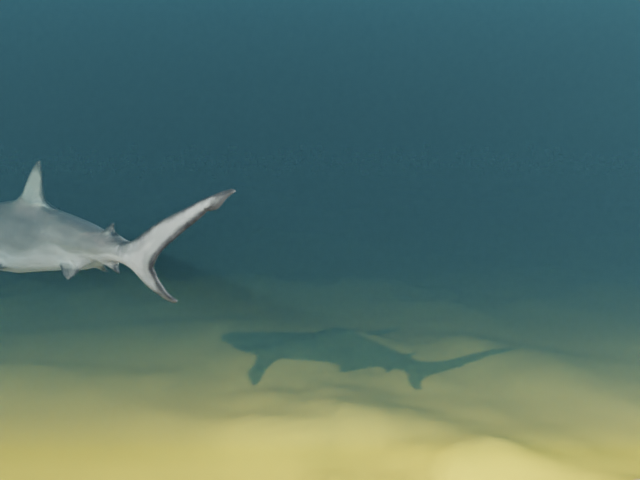Carribean Shark.001: (0, 160, 235, 302)
